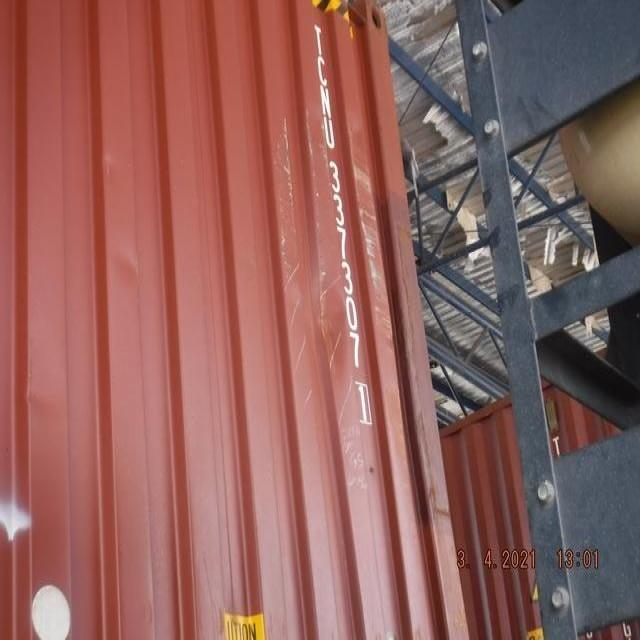dent: (283, 258, 376, 389), (25, 384, 68, 420), (116, 248, 149, 284)
